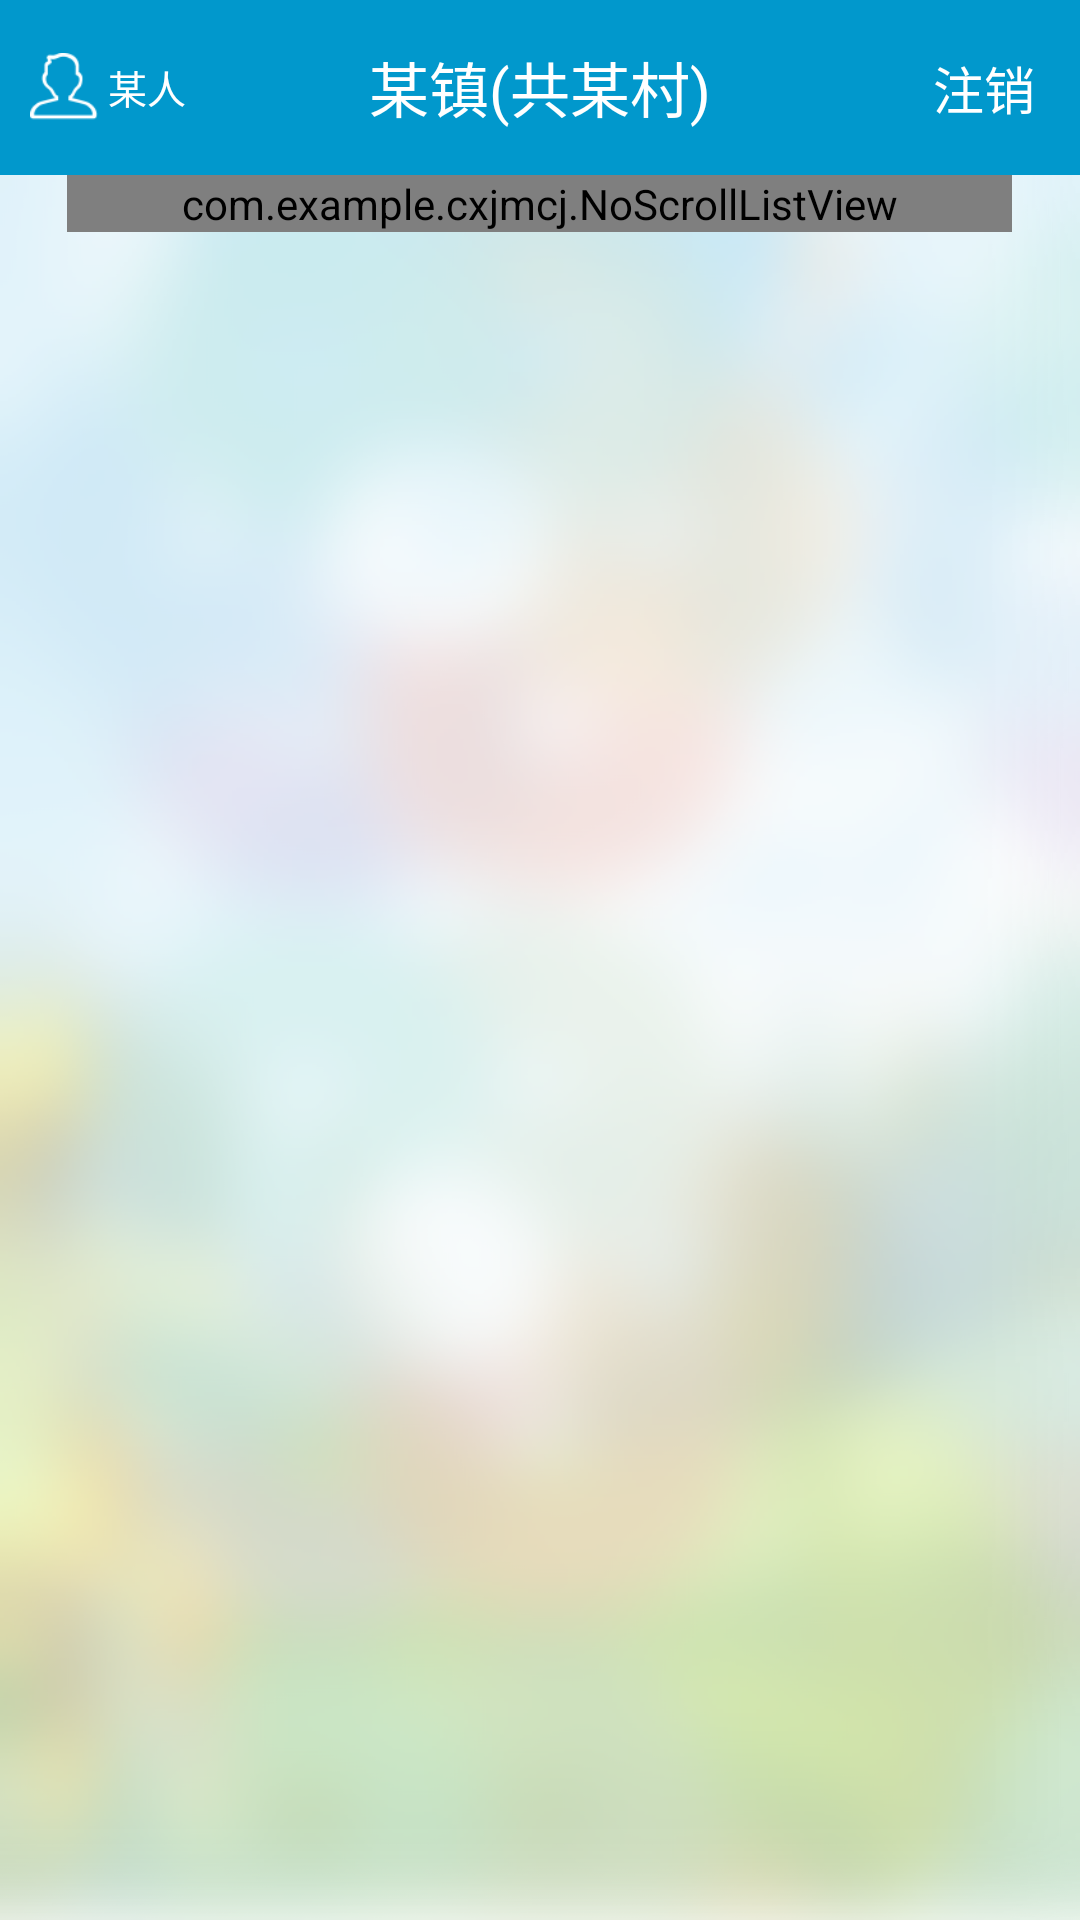

Where to tap for icons on this 1080×1920 app screen, as [x,y]:
gerenzhuye: [64,86]
